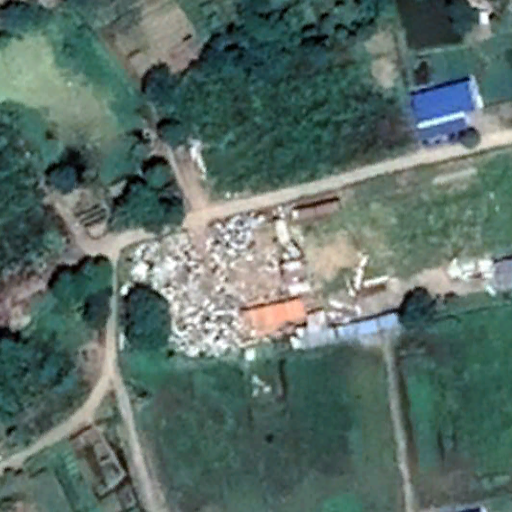msw: (125, 207, 273, 361)
